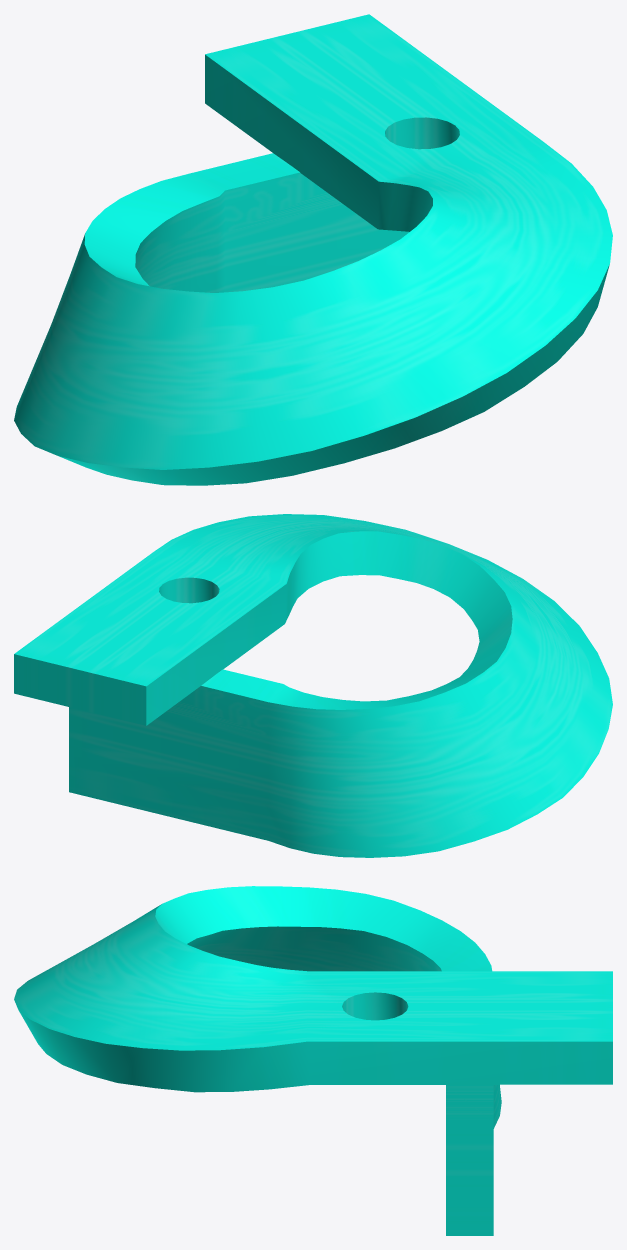
The model's file is 0_ground6.fbx.
3 renders of one model, top to bottom at view 1: azimuth 30°, elevation 25°; view 2: azimuth 150°, elevation 25°; view 3: azimuth 270°, elevation 25°, orthographic. The views are drawn at different scales.
Visible parts, largest first — view 1: mqo_mesh; view 2: mqo_mesh; view 3: mqo_mesh.
Boxes of the visible parts, x1,y1,x2,y2 form: mqo_mesh: (14, 14, 612, 485); mqo_mesh: (14, 514, 612, 857); mqo_mesh: (14, 886, 612, 1235).
Size of the model in its own units: 123 by 56.51 by 142.
